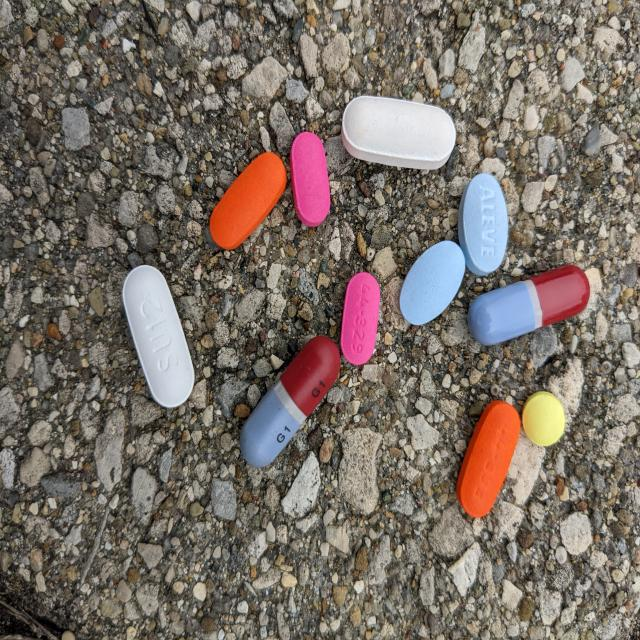non-organic waste: (238, 334, 342, 468), (121, 263, 196, 410), (467, 263, 591, 347), (340, 94, 456, 171), (208, 151, 288, 251), (455, 398, 521, 519), (398, 238, 467, 327), (456, 172, 509, 277), (289, 130, 332, 229), (339, 271, 381, 367), (521, 390, 566, 448)
